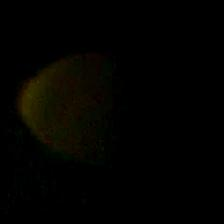fertile: (17, 50, 169, 166)
